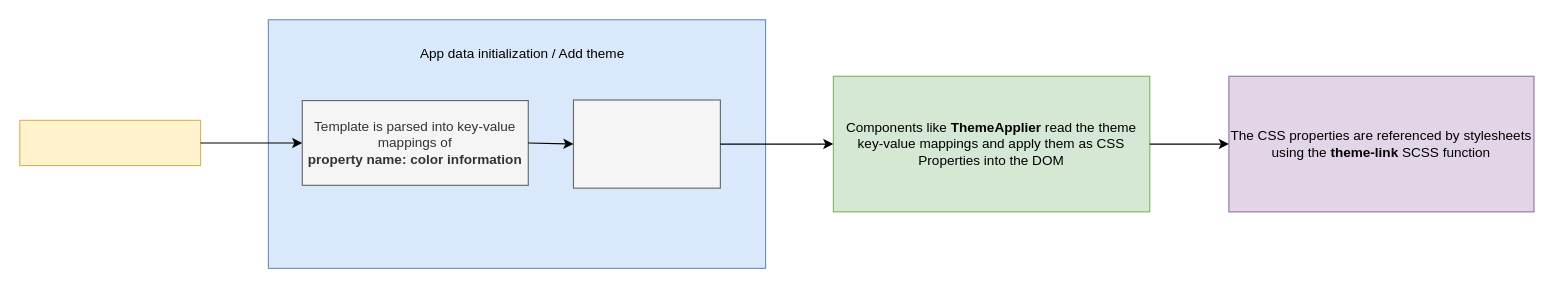
Some shapes in this 1554 by 288 pixel diagram are drawn without their labels. Here are the shapes that lost their labels. From the top down, the box of each, then its label:
(19, 119, 201, 166): Theme template file
(572, 99, 720, 188): Theme is added into theme Redux store
